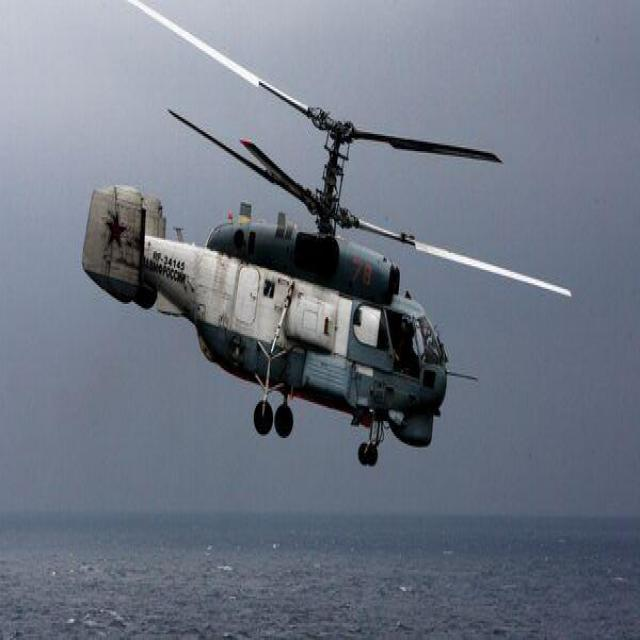MIL_HELO: (81, 0, 575, 469)
